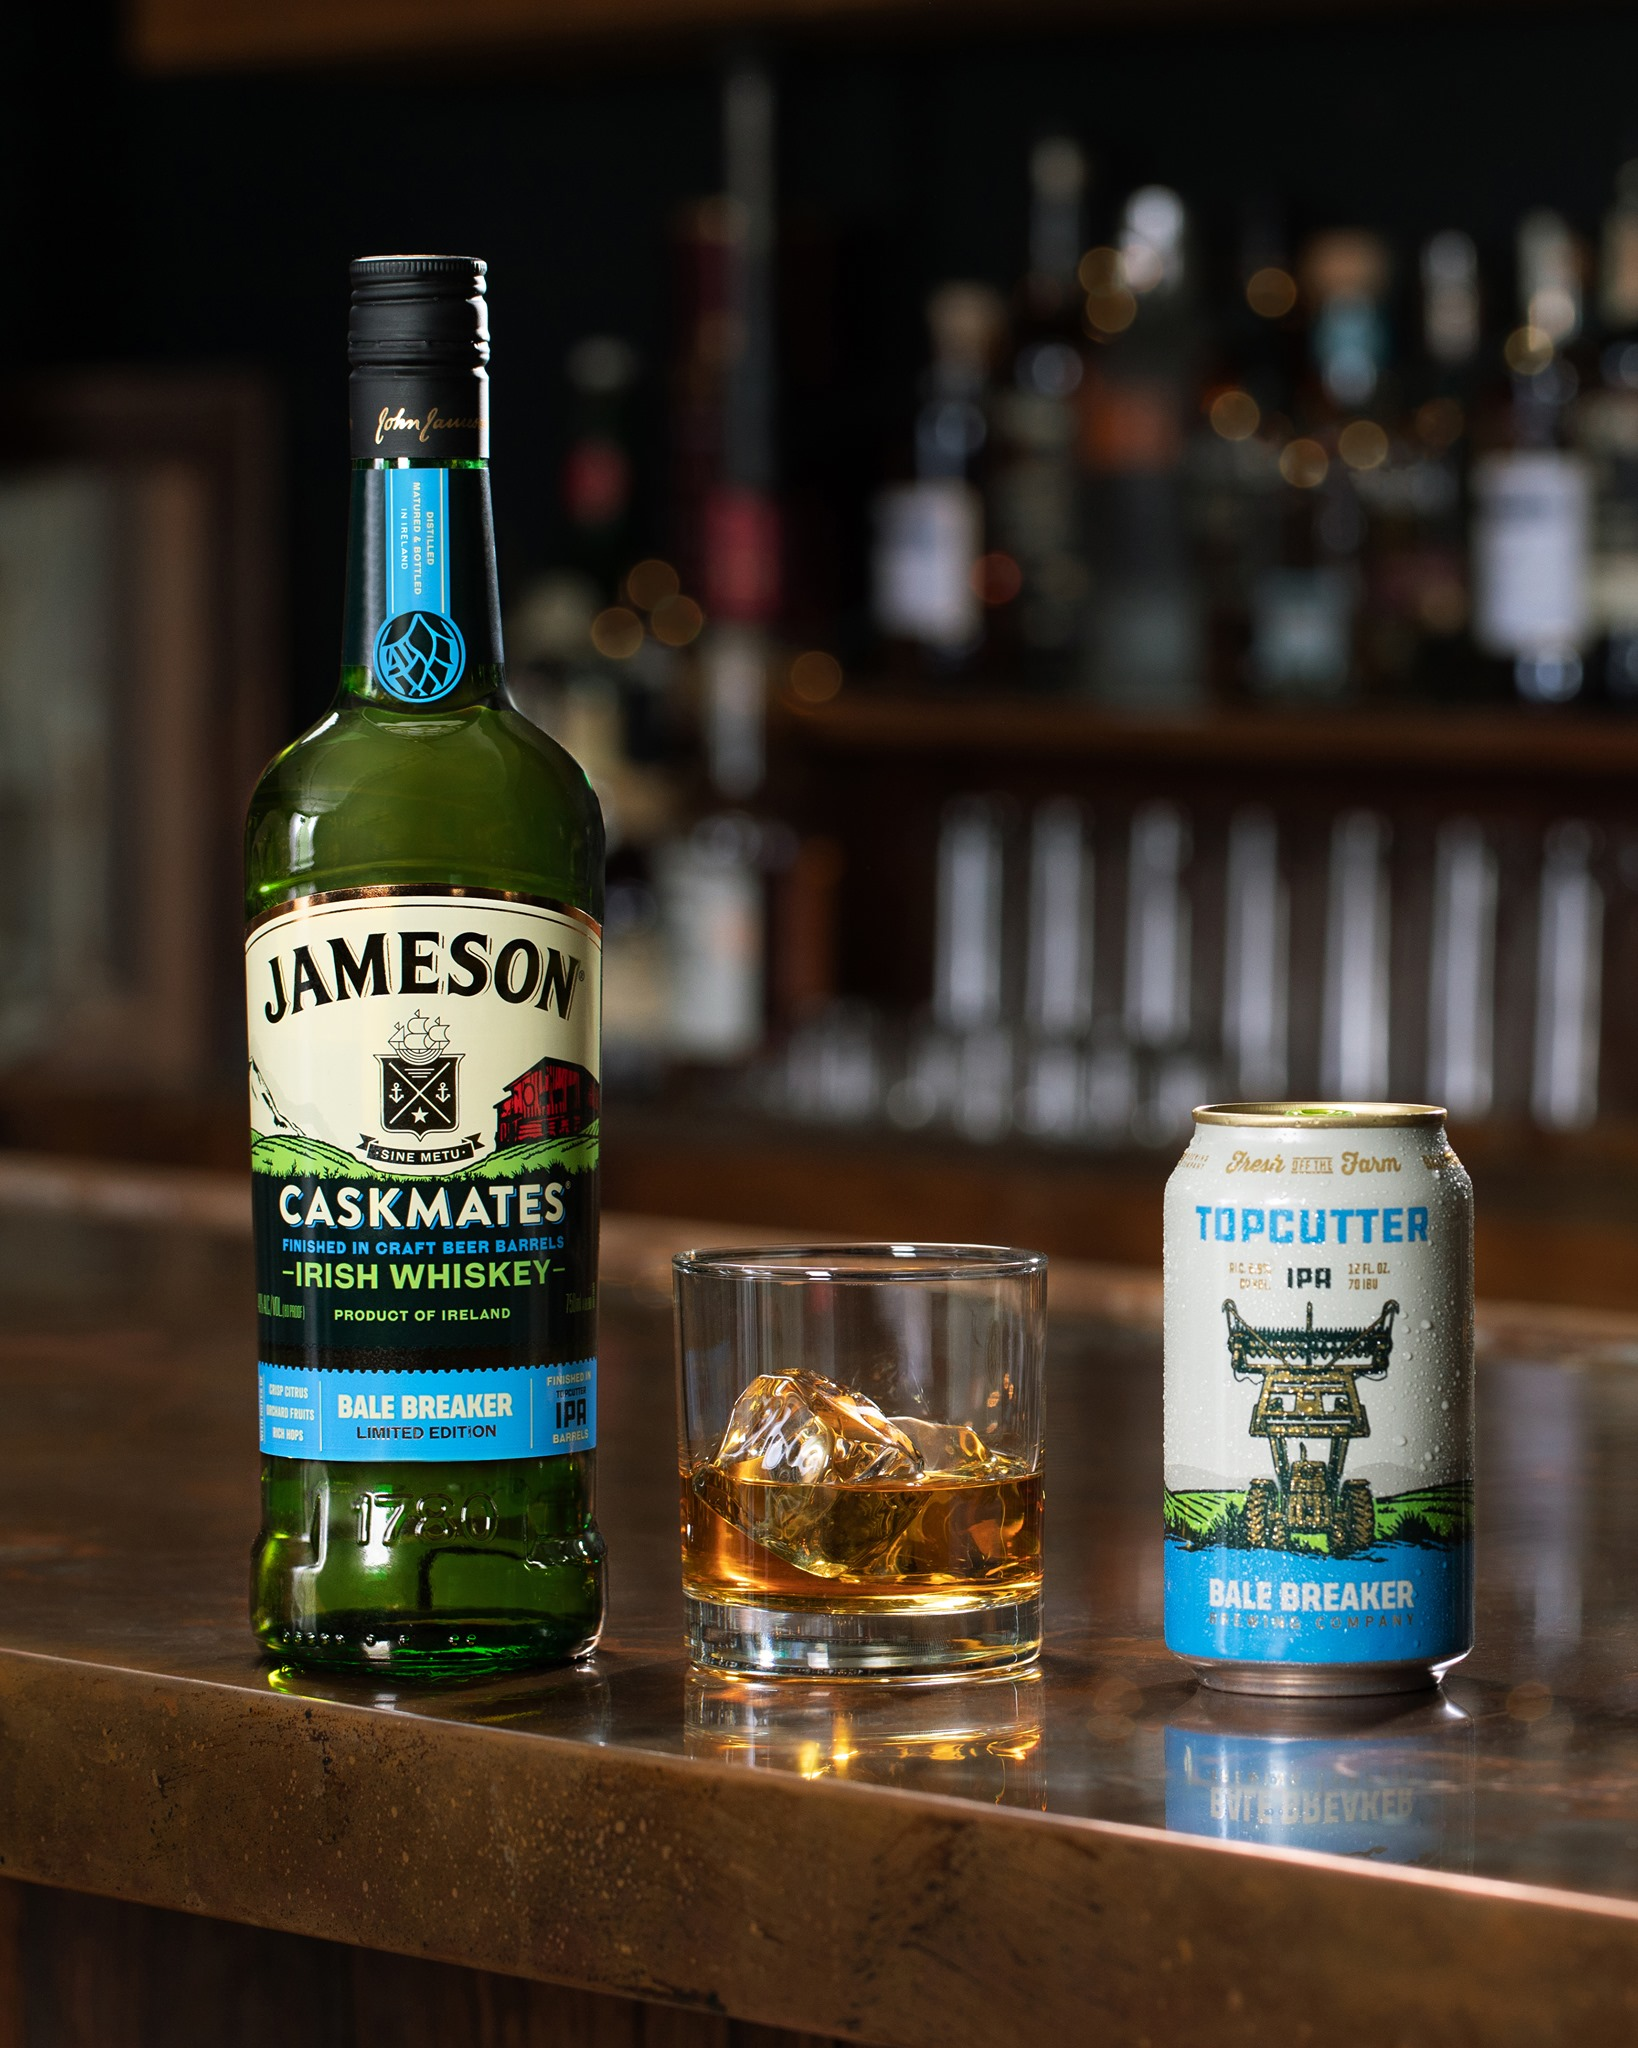Jameson: (209, 207, 623, 1704)
